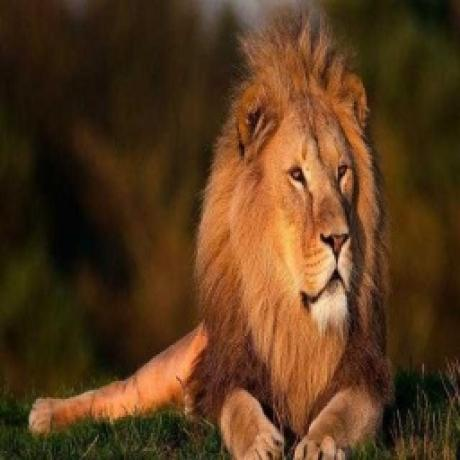Lion: (25, 12, 399, 460)
